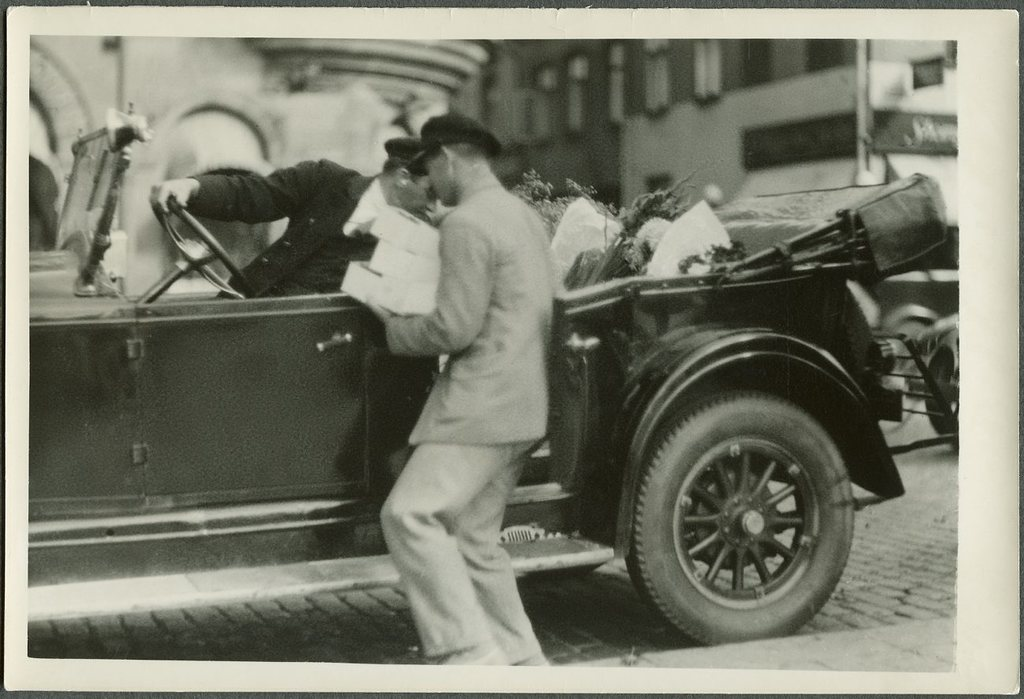Car: (16, 100, 960, 646), (868, 217, 957, 370), (907, 315, 958, 451)
